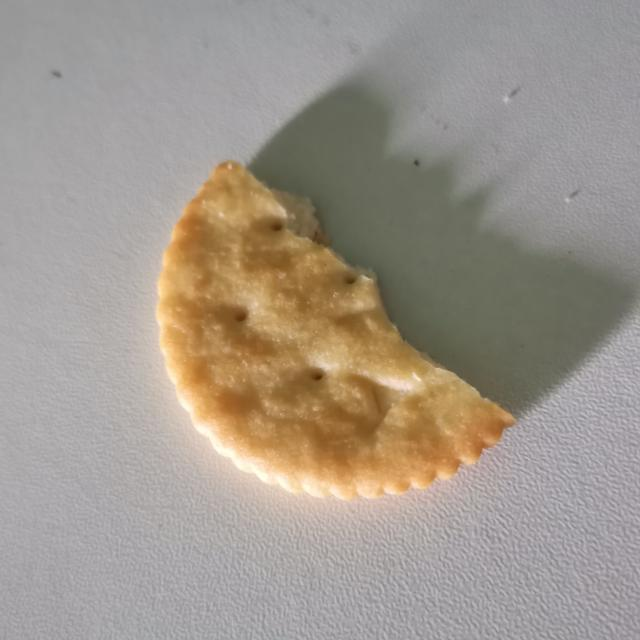Broken: (155, 159, 517, 501)
